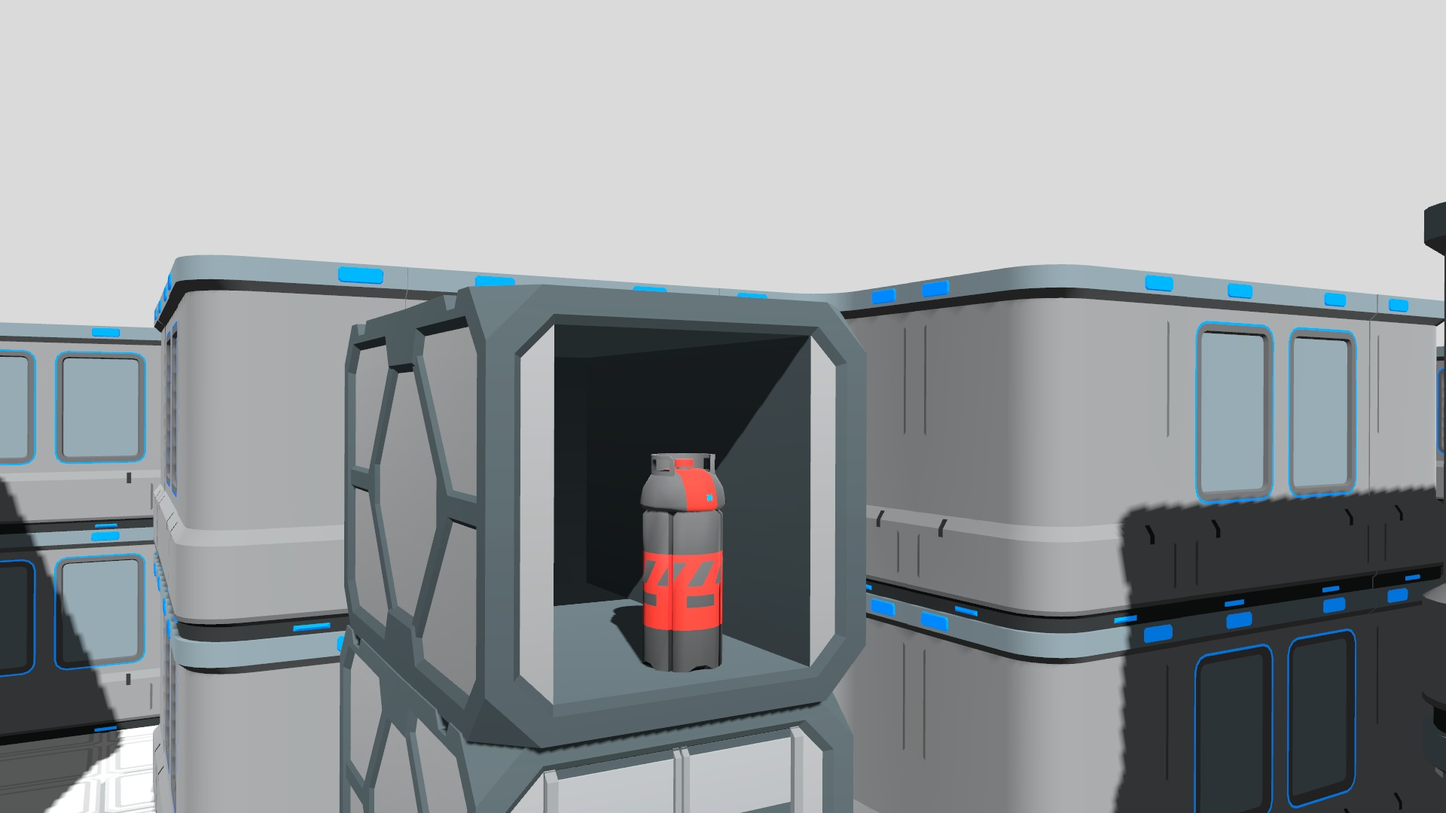red_barrel: (641, 445, 734, 678)
